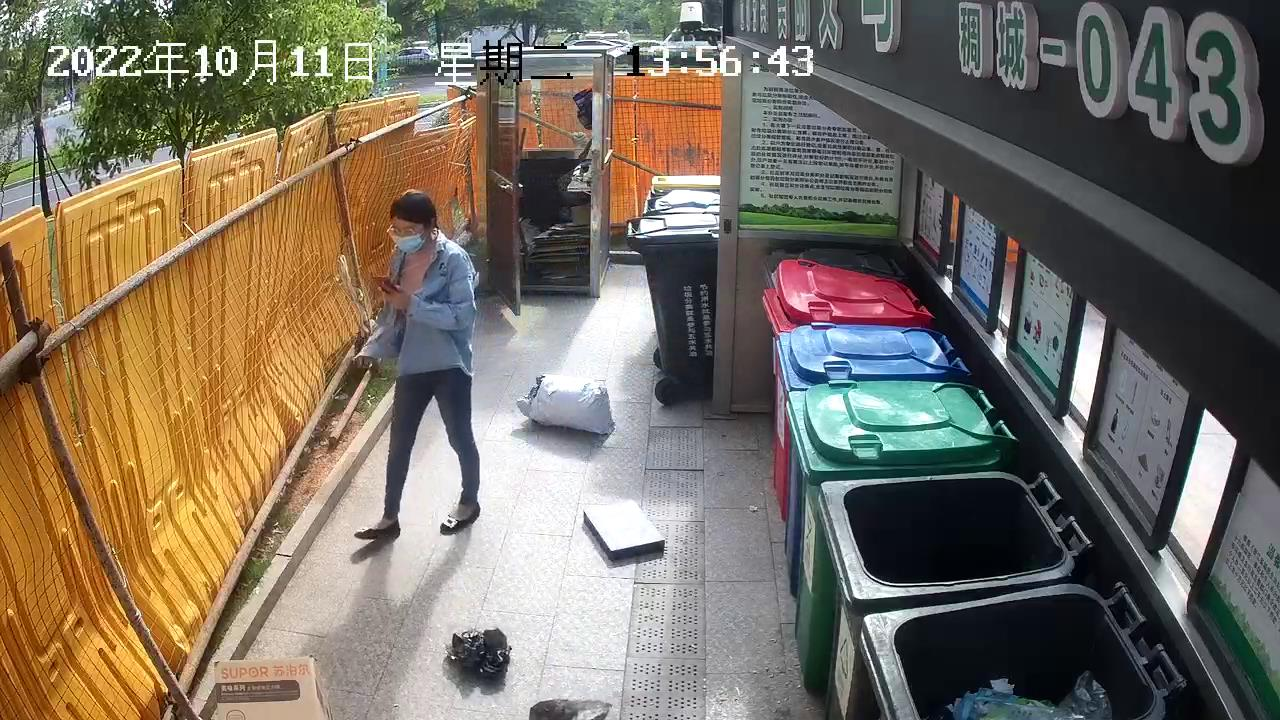garbage: (511, 367, 623, 440), (444, 623, 518, 687)
worker: (350, 184, 488, 543)
zhizhipin: (206, 650, 344, 720), (576, 494, 671, 562)
